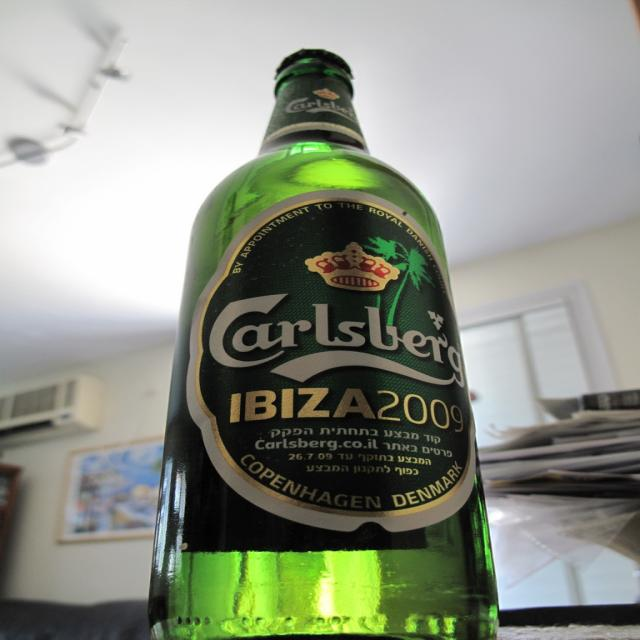carlsberg: (193, 193, 484, 525)
